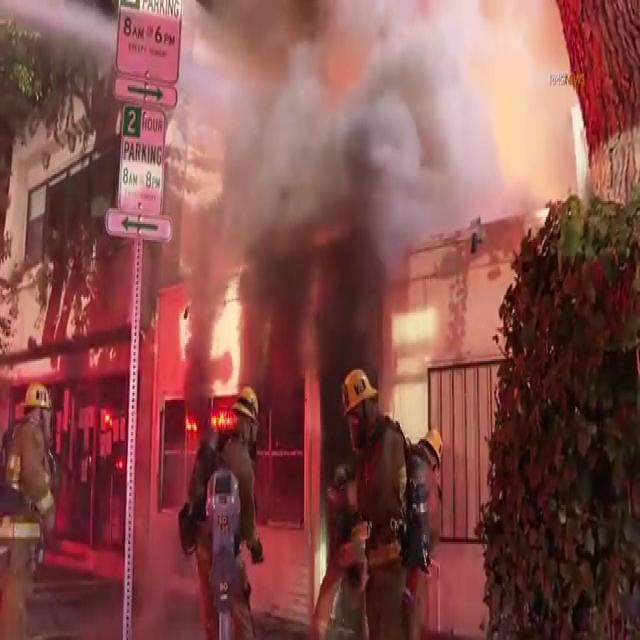Smoke: (172, 0, 481, 361)
